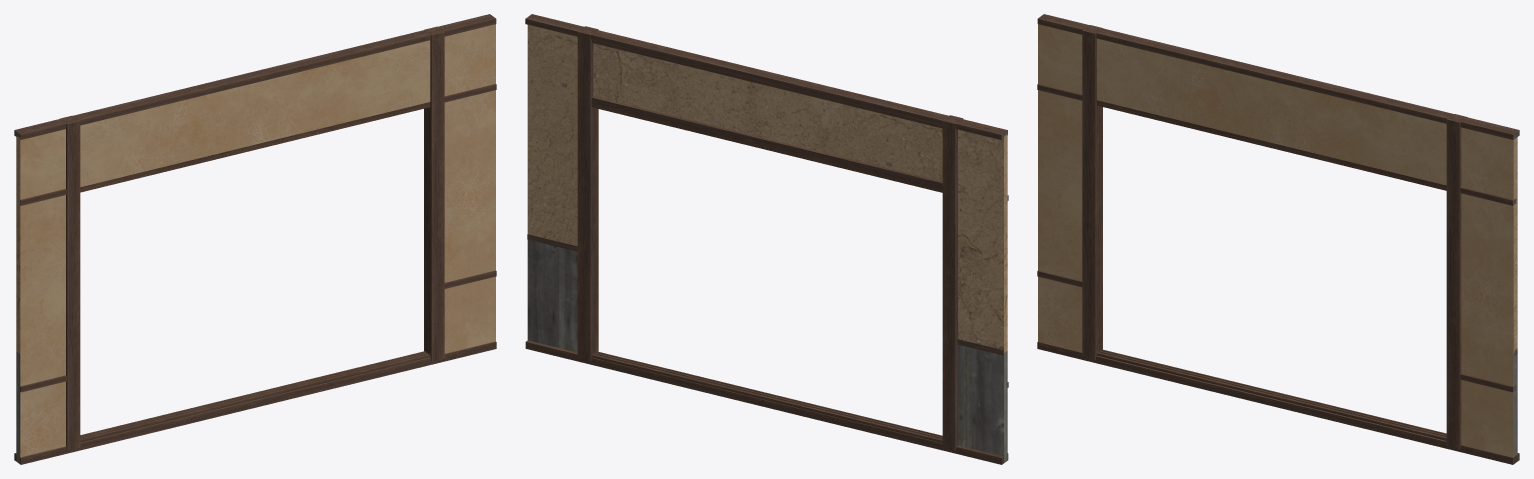
The model's file is jov_outwall02_2t_to_d1.fbx.
3 views of the same model, side by side, from view 1: azimuth 30°, elevation 25°; view 2: azimuth 150°, elevation 25°; view 3: azimuth 330°, elevation 25° (orthographic).
Parts seen in each view (by area): view 1: jov_outwall02_2t_to_d1; view 2: jov_outwall02_2t_to_d1; view 3: jov_outwall02_2t_to_d1.
Boxes of the visible parts, bbox=[...] form: jov_outwall02_2t_to_d1: bbox=[14, 14, 496, 464]; jov_outwall02_2t_to_d1: bbox=[525, 14, 1008, 464]; jov_outwall02_2t_to_d1: bbox=[1037, 14, 1519, 464].
Size of the model in its own units: 440 by 292 by 12.44.
